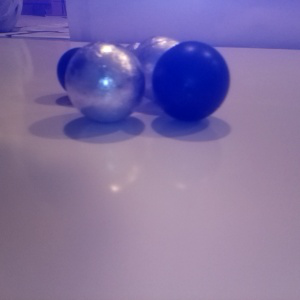alive_ball: (65, 40, 146, 124), (132, 36, 192, 101)
dead_ball: (153, 41, 231, 122), (56, 47, 103, 97)
